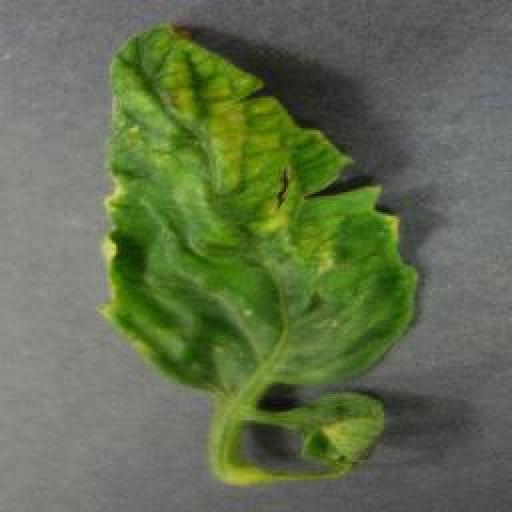disease_tomato: (100, 24, 422, 391)
